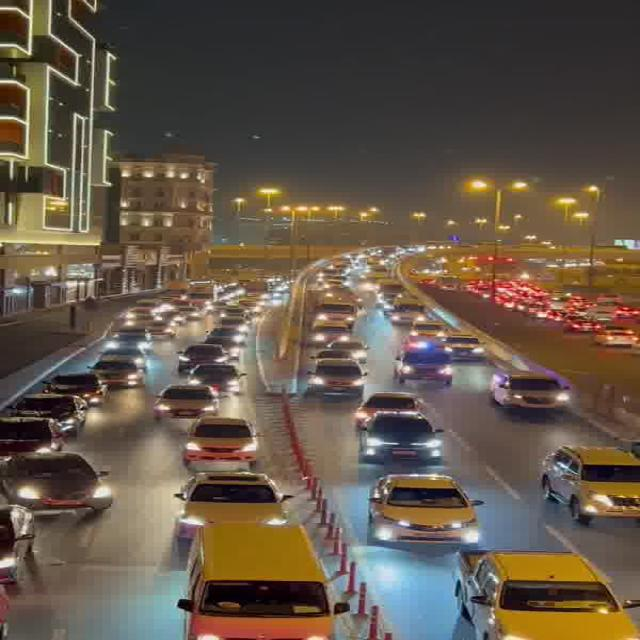ambulance: (388, 335, 454, 383)
